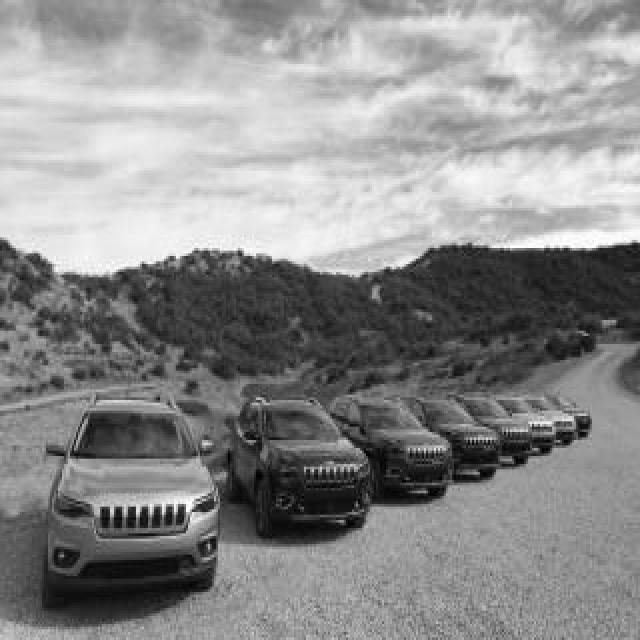Car: (41, 396, 220, 606), (226, 400, 373, 536), (330, 395, 451, 495), (404, 400, 500, 476), (458, 398, 532, 464), (496, 397, 556, 452)
